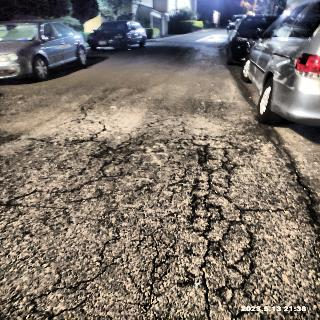alligator-crack: (198, 129, 252, 320)
crack: (34, 256, 131, 319), (10, 162, 106, 220), (276, 116, 320, 233), (140, 224, 191, 318), (158, 142, 198, 219), (63, 114, 111, 148)
